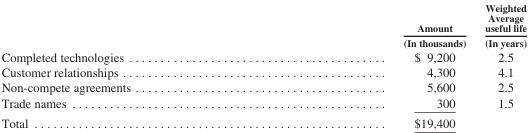table: (0, 1, 526, 129)
table column: (0, 1, 267, 129), (267, 1, 474, 129), (474, 1, 526, 129)
table column header: (0, 1, 526, 49)
table row: (0, 1, 526, 49), (0, 94, 526, 112), (0, 112, 526, 129), (0, 49, 526, 64), (0, 64, 526, 79), (0, 79, 526, 94)
